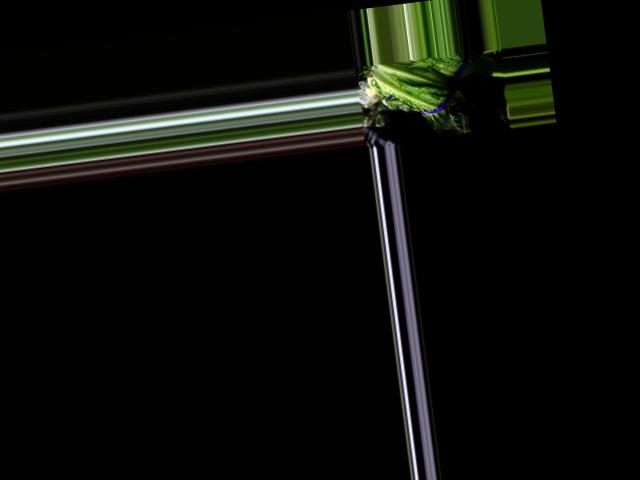lettuce: (376, 52, 476, 138)
